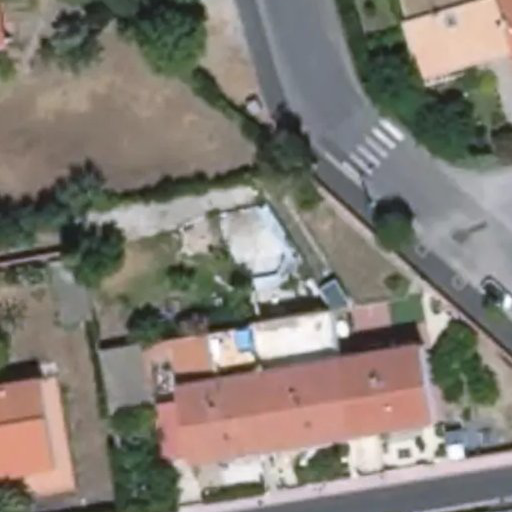pool: (226, 209, 292, 285)
